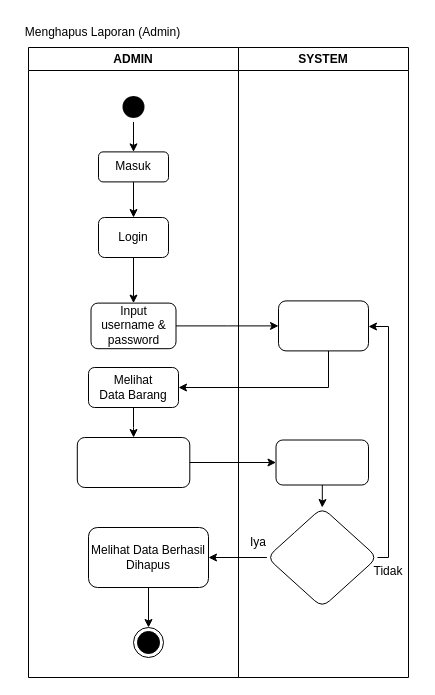
Some shapes in this 435 by 695 pixel diagram are drawn without their labels. The centre of each missing label's shape, as x and y in pixels:
Memilih Aksi Hapus Data Barang: point 133,462
Menampilkan Halaman Data Barang: point 323,325
Menampilkan Notifikasi Hapus: point 321,462
Yakin Dihapus Atau Tidak?: point 322,557
